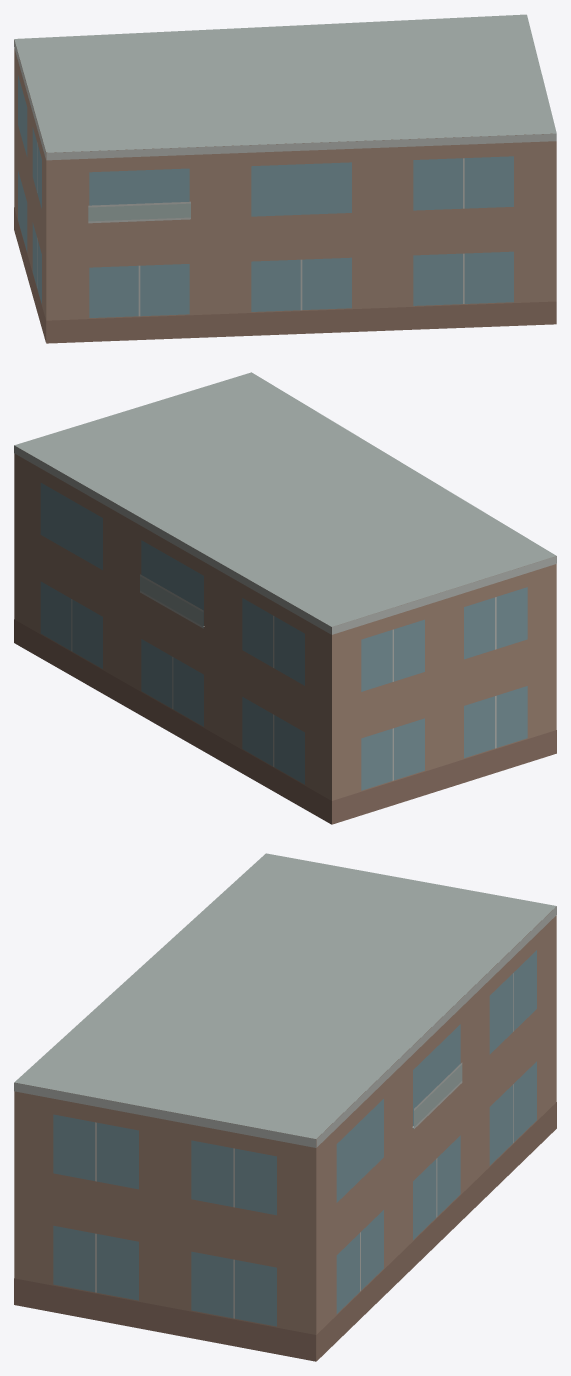
The model's file is survey-upis-32894491.glb.
The picture shows the model from 3 angles, top to bottom: view 1: azimuth 30°, elevation 25°; view 2: azimuth 150°, elevation 25°; view 3: azimuth 270°, elevation 25°; orthographic projection. The views are drawn at different scales.
Parts seen in each view (by area): view 1: survey-upis-32894491.tmp; view 2: survey-upis-32894491.tmp; view 3: survey-upis-32894491.tmp.
Part boxes in pixels (box(x1,y1,x2,y2)): survey-upis-32894491.tmp: box(14, 14, 556, 343); survey-upis-32894491.tmp: box(14, 372, 556, 824); survey-upis-32894491.tmp: box(14, 853, 556, 1361).
Bounding box in the file's own units: 16.82 × 6.1 × 13.5.
